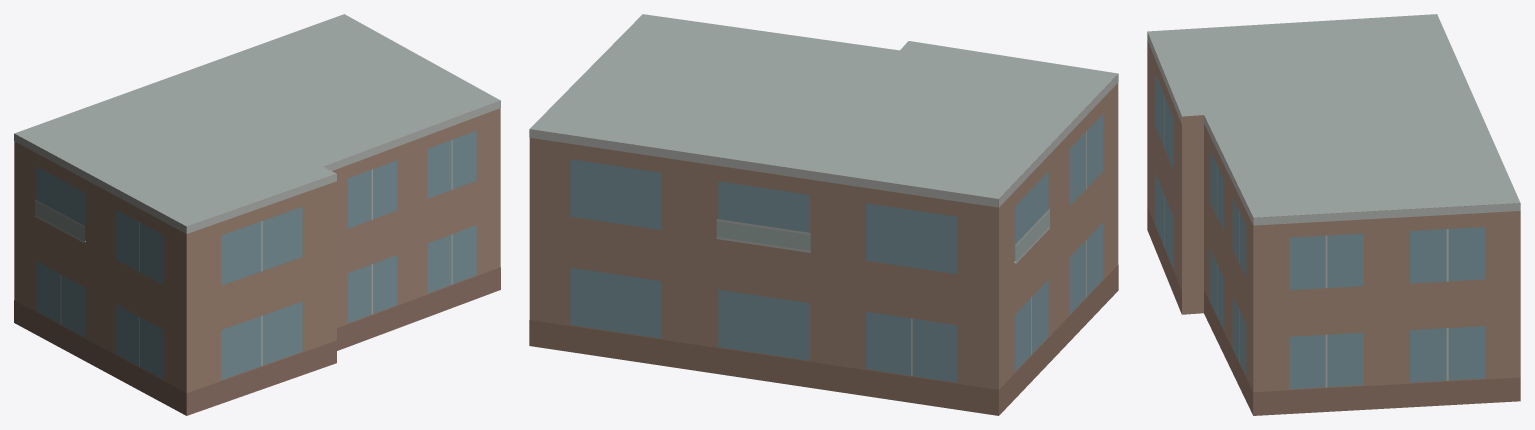
Rendered from survey-upis-32909948.glb.
The picture shows the model from 3 angles, left to right: view 1: azimuth 30°, elevation 25°; view 2: azimuth 150°, elevation 25°; view 3: azimuth 270°, elevation 25°; orthographic projection. The views are drawn at different scales.
Parts seen in each view (by area): view 1: survey-upis-32909948.tmp; view 2: survey-upis-32909948.tmp; view 3: survey-upis-32909948.tmp.
Part boxes in pixels (x1,y1,x2,y2): survey-upis-32909948.tmp: (14,14,500,415); survey-upis-32909948.tmp: (529,14,1118,415); survey-upis-32909948.tmp: (1147,14,1520,415).
Bounding box in the file's own units: 13.45 × 6.1 × 10.42.
